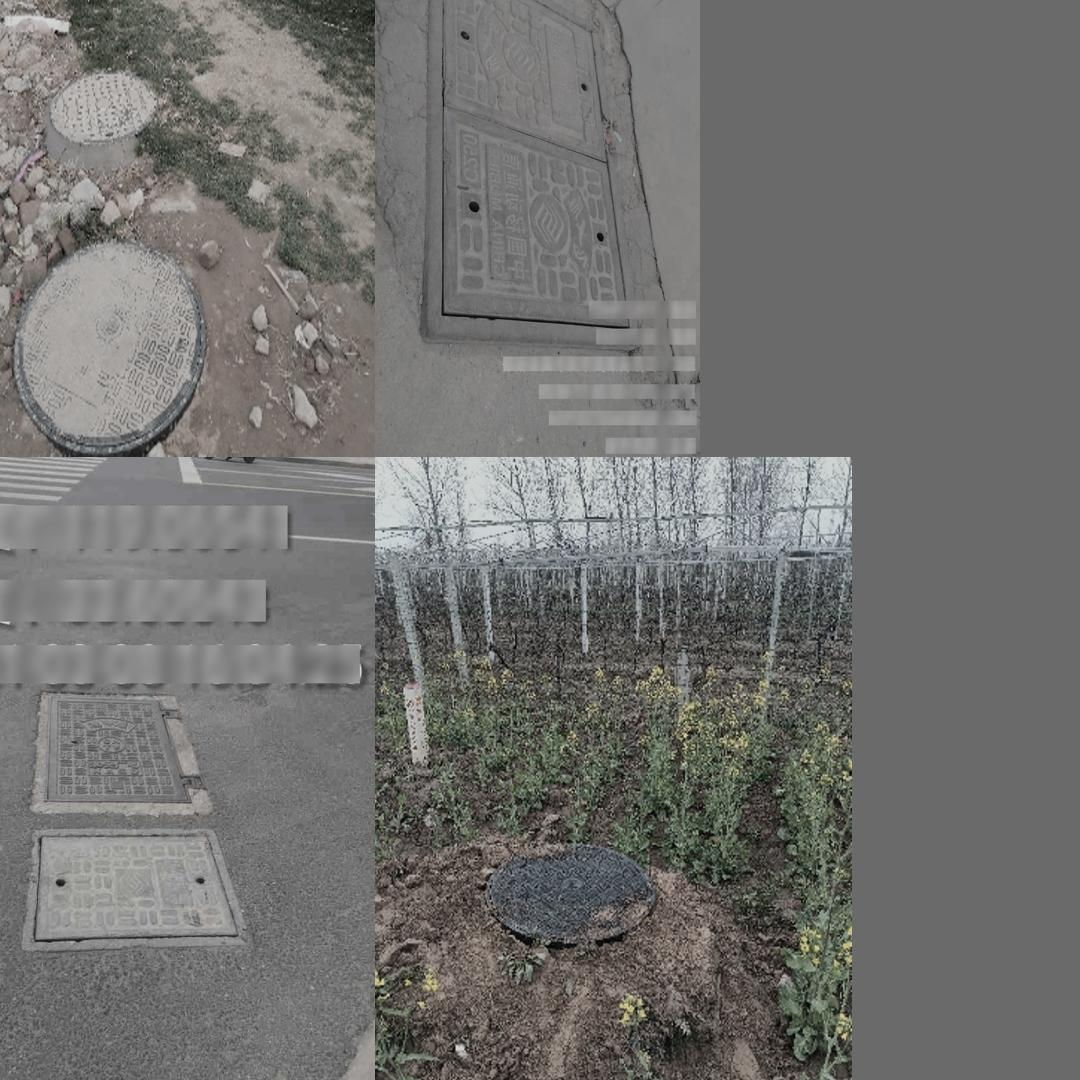good: (420, 0, 646, 346), (13, 238, 205, 457), (22, 828, 249, 946), (45, 690, 208, 806), (488, 844, 656, 943), (49, 68, 161, 144)
